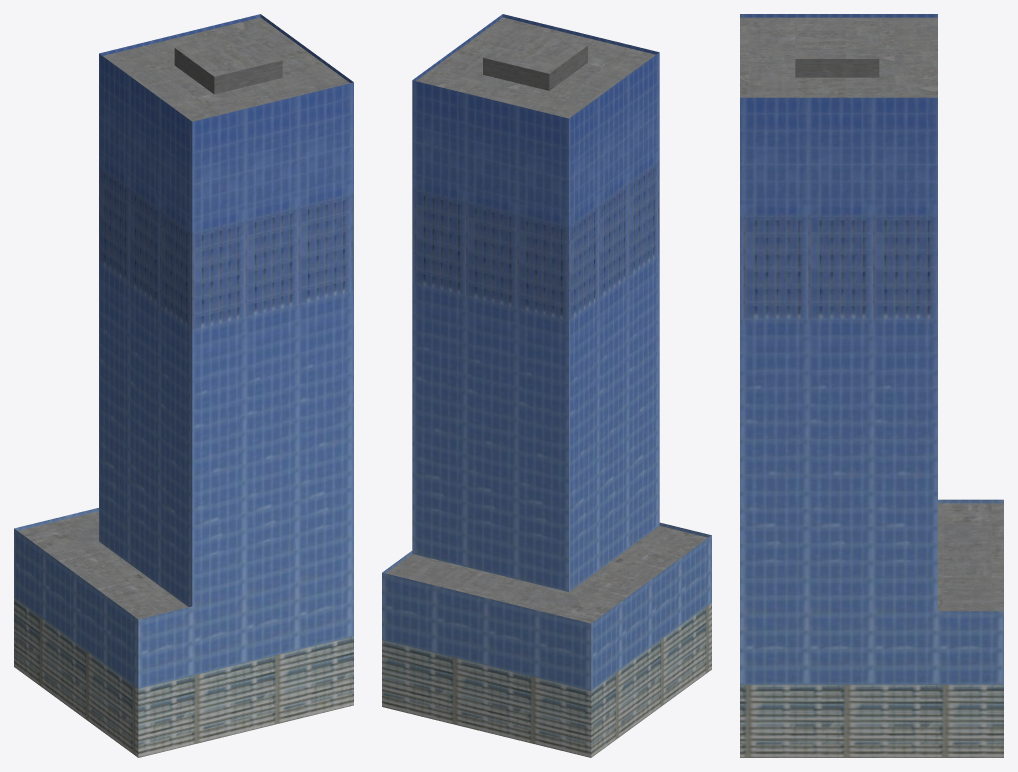
3 renders of one model, left to right at view 1: azimuth 30°, elevation 25°; view 2: azimuth 150°, elevation 25°; view 3: azimuth 270°, elevation 25°, orthographic. The views are drawn at different scales.
Visible parts, largest first — view 1: Object_1, Object_2, Object_3, Object_6, Object_4, Object_5; view 2: Object_1, Object_2, Object_6, Object_3, Object_4, Object_7, Object_5; view 3: Object_1, Object_2, Object_3, Object_6, Object_4, Object_5, Object_7.
Part boxes in pixels (bbox=[...]): Object_1: bbox=[14, 14, 353, 688]; Object_2: bbox=[14, 598, 353, 757]; Object_3: bbox=[103, 17, 349, 121]; Object_6: bbox=[18, 511, 188, 619]; Object_4: bbox=[174, 31, 282, 94]; Object_5: bbox=[99, 15, 353, 124]; Object_1: bbox=[382, 14, 711, 690]; Object_2: bbox=[382, 602, 711, 757]; Object_6: bbox=[386, 526, 707, 623]; Object_3: bbox=[416, 17, 655, 118]; Object_4: bbox=[483, 29, 587, 90]; Object_7: bbox=[382, 523, 711, 623]; Object_5: bbox=[412, 14, 658, 121]; Object_1: bbox=[740, 14, 1003, 684]; Object_2: bbox=[740, 684, 1003, 757]; Object_3: bbox=[740, 17, 937, 97]; Object_6: bbox=[938, 503, 1003, 611]; Object_4: bbox=[795, 24, 879, 77]; Object_5: bbox=[740, 14, 937, 101]; Object_7: bbox=[938, 499, 1003, 614].
Bounding box in the file's own units: 1283 × 1283 × 3624.
Materials: 7 (7 with a texture image).
